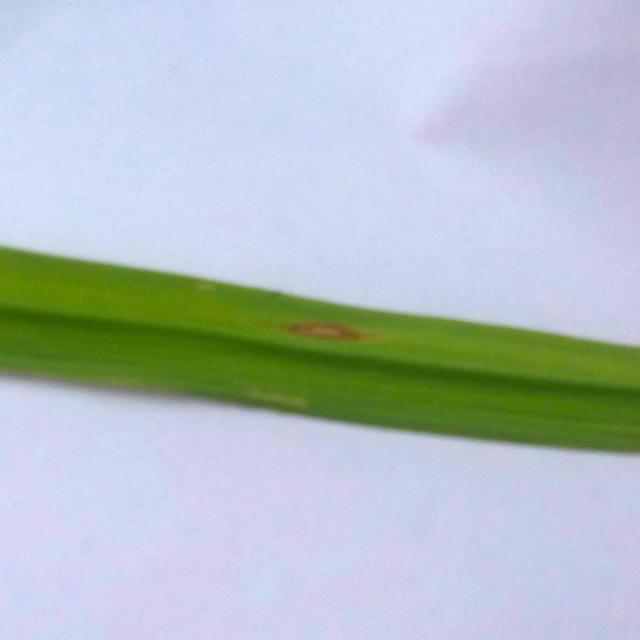Leaf_Blast: (221, 289, 443, 372)
